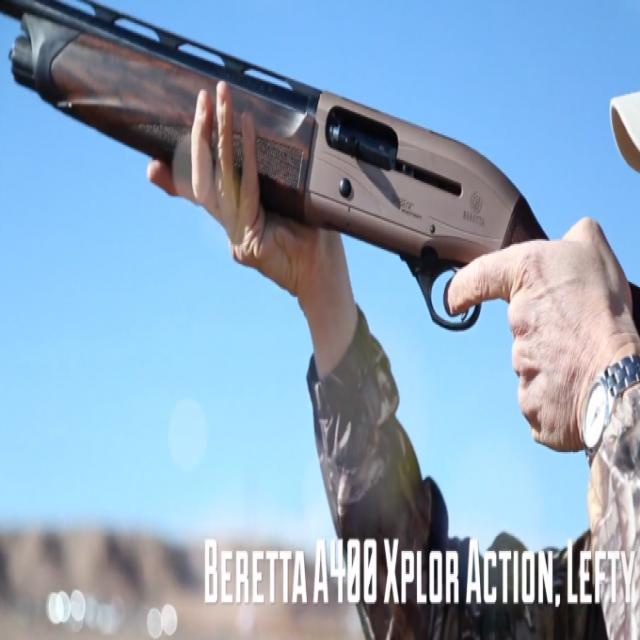ShotGun: (0, 0, 545, 332)
